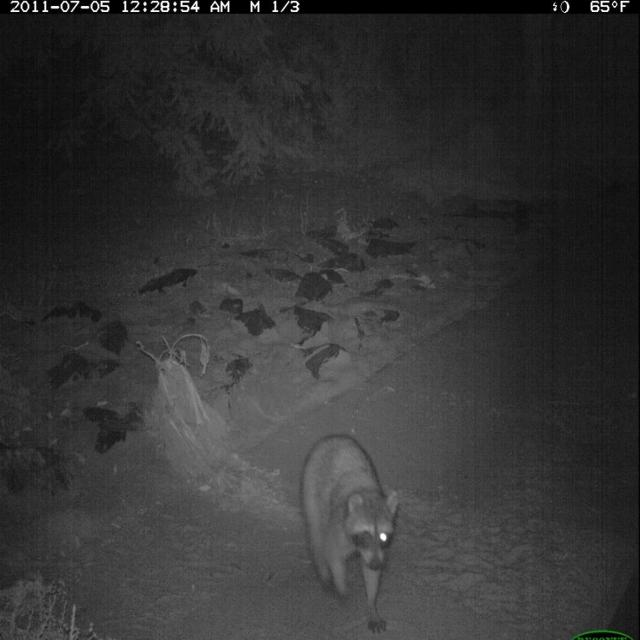raccoon: (293, 430, 407, 640)
